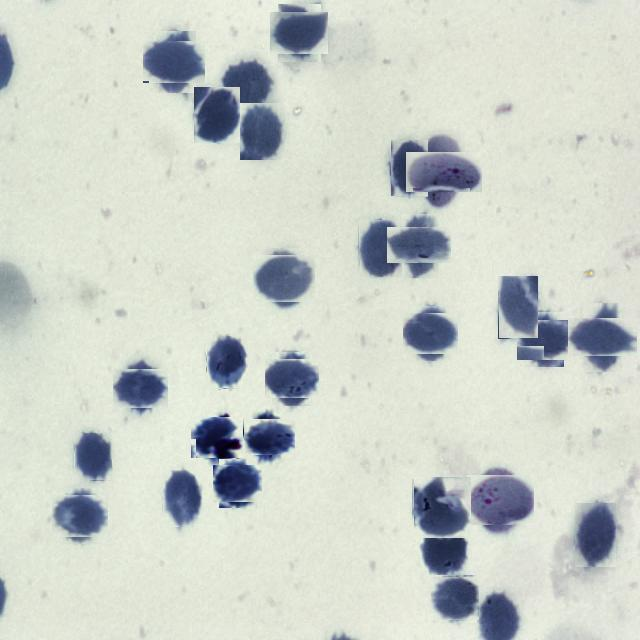red blood cell: (413, 478, 473, 538), (256, 252, 312, 306), (576, 310, 630, 364), (222, 58, 272, 115), (148, 36, 201, 88), (574, 503, 616, 568), (194, 87, 240, 143), (358, 220, 402, 278), (498, 276, 538, 339), (240, 103, 284, 160), (56, 491, 106, 541), (274, 8, 324, 58), (394, 220, 444, 270), (407, 309, 455, 358), (422, 525, 468, 576), (116, 364, 164, 412), (520, 316, 568, 364), (162, 470, 202, 527), (390, 140, 428, 197), (269, 356, 316, 402), (206, 336, 246, 389), (432, 576, 478, 622), (194, 415, 240, 461), (247, 415, 291, 459), (216, 462, 260, 505), (74, 433, 112, 481)
ring: (470, 470, 530, 530), (415, 142, 473, 200)
